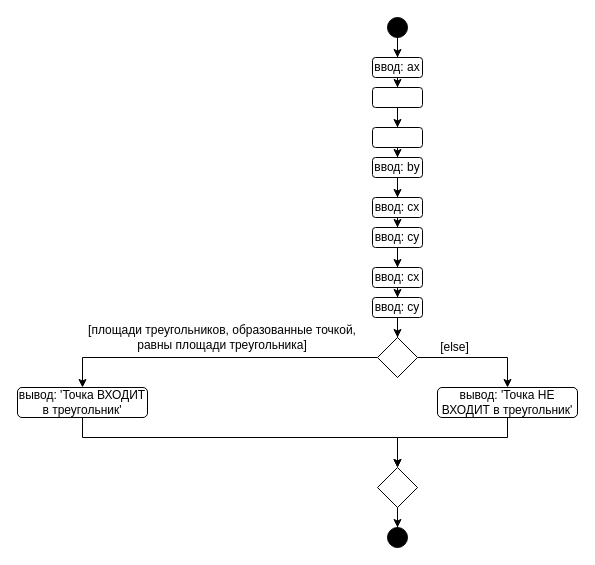
Some shapes in this 595 by 565 pixel diagram are drawn without their labels. Here are the shapes that lost their labels. From the top down, the box of each, then its label:
(372, 86, 422, 108): ввод: ay
(372, 126, 422, 148): ввод: bx
